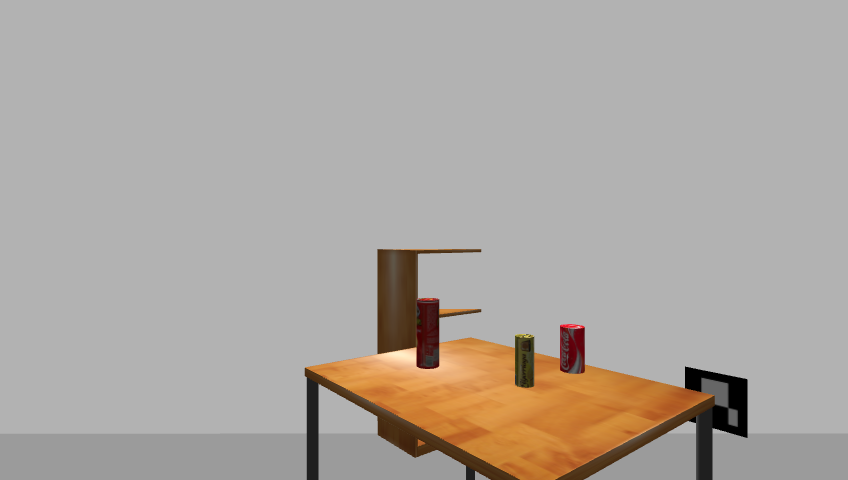aruco marker: (679, 364, 754, 439)
biscuits pack: (514, 334, 535, 389)
bookshelf: (372, 242, 486, 462)
coke can: (558, 324, 588, 376)
dinner table: (297, 339, 724, 479)
pringles can: (415, 298, 442, 371)
